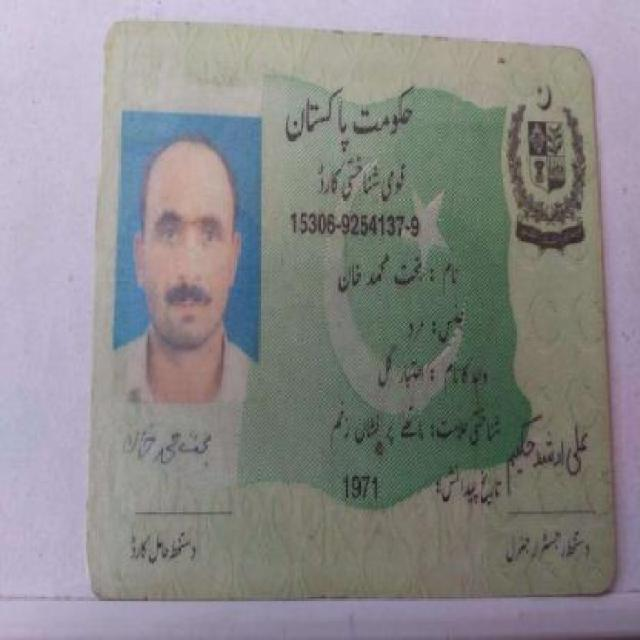Front: (85, 9, 626, 600)
